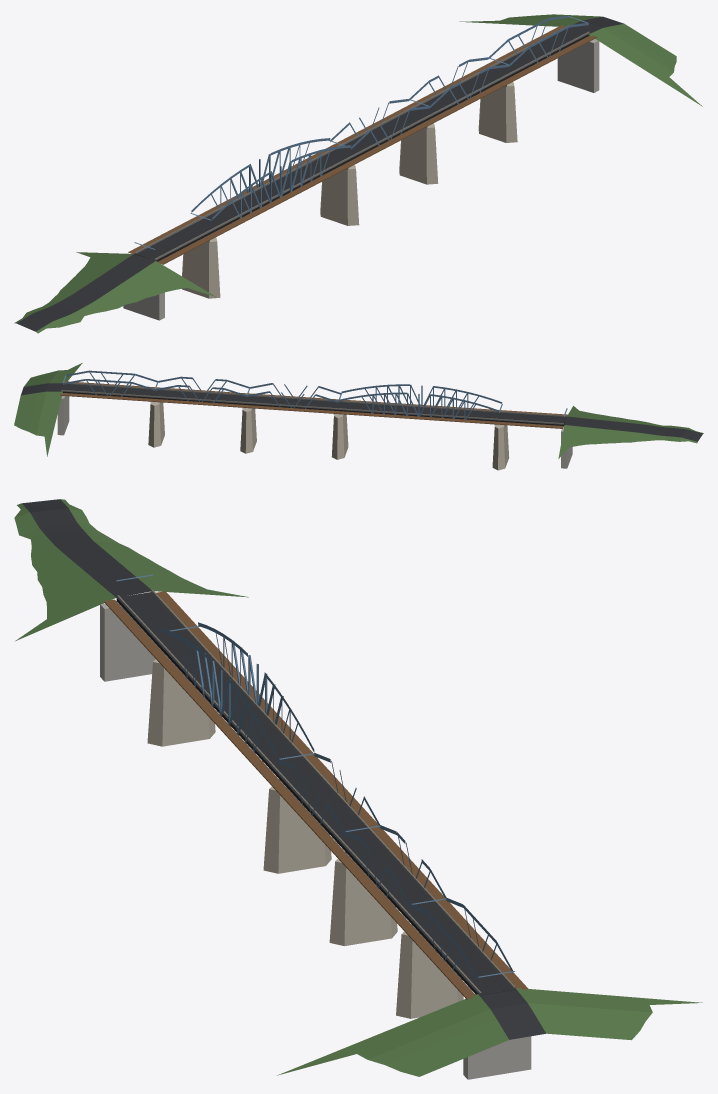
File: br_r15_dawson_lod2.gltf
3 renders of one model, top to bottom at view 1: azimuth 30°, elevation 25°; view 2: azimuth 150°, elevation 25°; view 3: azimuth 270°, elevation 25°, orthographic. The views are drawn at different scales.
Visible parts, largest first — view 1: br_r15_dawson_lod2; view 2: br_r15_dawson_lod2; view 3: br_r15_dawson_lod2.
Part boxes in pixels (left/top/right/bottom): br_r15_dawson_lod2: left=14, top=14, right=702, bottom=333; br_r15_dawson_lod2: left=14, top=363, right=703, bottom=470; br_r15_dawson_lod2: left=14, top=499, right=702, bottom=1079.
Bounding box in the file's own units: 311 × 35.32 × 162.
